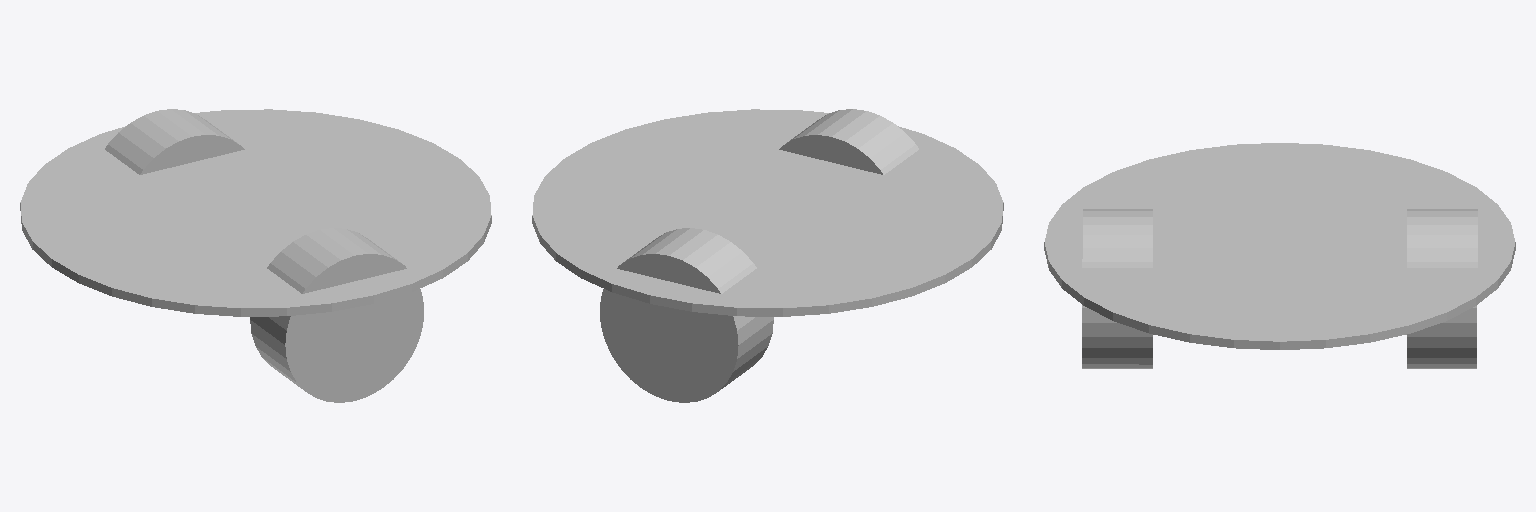
The robot description file, URDF, robot "test":
<?xml version="1.0"?>
<robot name="test" xmlns:xacro="http://wiki.ros.org/xacro">

  <link name="base_link"/>
  <joint name="base_link_to_body" type="fixed">
    <origin xyz="0.0 0.0 0.12" rpy="0.0 0.0 0.0"/>
    <parent link="base_link"/>
    <child link="body"/>
  </joint>
  <link name="body">
    <visual>
      <origin xyz="0.0 0.0 0.05" rpy="0.0 0.0 0.0"/>
      <geometry>
        <cylinder radius="0.25" length="0.01"/>
      </geometry>
      <material name="body">
        <color rgba="0.8 0.8 0.8 0.5"/>
      </material>
    </visual>
  </link>
  <joint name="left_wheel_joint" type="continuous">
	<origin xyz="0.0 0.1721 0.0" rpy="0.0 0.0 0.0"/>
	<axis xyz="0 1 0"/>
	<parent link="body"/>
	<child link="left_wheel_link"/>
  </joint>
  <link name="left_wheel_link">
    <visual>
      <origin xyz="0.0 0.0 0.0" rpy="1.57 0.0 0.0"/>
      <geometry>
        <cylinder radius="0.085" length="0.075"/>
      </geometry>
      <material name="wheel">
        <color rgba="0.8 0.8 0.8 1.0"/>
      </material>
    </visual>
  </link>
  <joint name="right_wheel_joint" type="continuous">
    <origin xyz="0.0 -0.1721 0.0" rpy="0.0 0.0 3.14"/>
    <axis xyz="0 1 0"/>
    <parent link="body"/>
    <child link="right_wheel_link"/>
  </joint>
  <link name="right_wheel_link">
    <visual>
      <origin xyz="0.0 0.0 0.0" rpy="-1.57 0.0 0.0"/>
      <geometry>
        <cylinder radius="0.085" length="0.075"/>
      </geometry>
      <material name="wheel">
        <color rgba="0.8 0.8 0.8 1.0"/>
      </material>
    </visual>
  </link>
  <link name="laser" />
  <joint name="body_to_laser" type="fixed">
    <parent link="body"/>
    <child link="laser"/>
    <!-- TODO: Set laser transform collectly -->
    <origin rpy="0 3.14 0" xyz="0.24 0 0"/>
  </joint>
</robot>

--- Render facts (derived) ---
Views: 3 orthographic renders of the robot side by side, from view 1: azimuth 30°, elevation 25°; view 2: azimuth 150°, elevation 25°; view 3: azimuth 270°, elevation 25°.
Robot: test — 5 links, 4 joints (2 continuous, 2 fixed); root link base_link; default pose: every joint at zero.
Links seen in each view (by area): view 1: body, right_wheel_link, left_wheel_link; view 2: body, left_wheel_link, right_wheel_link; view 3: body, right_wheel_link, left_wheel_link.
Link boxes in pixels (x1,y1,x2,y2): body: [20, 109, 491, 316]; right_wheel_link: [250, 228, 423, 402]; left_wheel_link: [105, 109, 244, 174]; body: [532, 109, 1003, 316]; left_wheel_link: [600, 228, 773, 402]; right_wheel_link: [779, 109, 918, 174]; body: [1044, 143, 1515, 349]; right_wheel_link: [1082, 209, 1152, 368]; left_wheel_link: [1407, 209, 1477, 368].
Size in the robot's own frame: 0.5 by 0.5 by 0.1701 metres.
Geometry: primitives only (box / cylinder / sphere), no mesh files.
